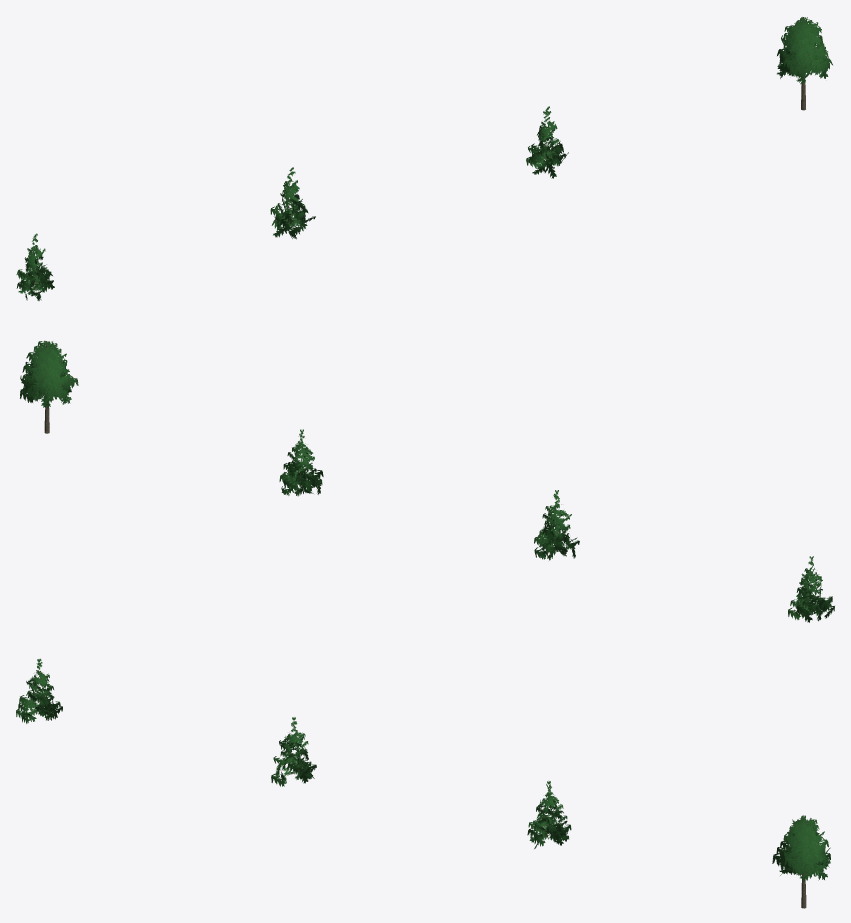
File: conifer.glb
The picture shows the model from 3 angles, top to bottom: view 1: azimuth 30°, elevation 25°; view 2: azimuth 150°, elevation 25°; view 3: azimuth 330°, elevation 25°; orthographic projection.
Parts seen in each view (by area): view 1: conifer_needles_27, conifer_needles_9, conifer_needles_16, conifer_needles_4; view 2: conifer_needles_27, conifer_needles_16, conifer_needles_9, conifer_needles_4; view 3: conifer_needles_27, conifer_needles_9, conifer_needles_16, conifer_needles_4.
Boxes of the visible parts, x1=… form: conifer_needles_27: x1=777, y1=17, x2=832, y2=84; conifer_needles_9: x1=270, y1=167, x2=315, y2=239; conifer_needles_16: x1=526, y1=106, x2=568, y2=178; conifer_needles_4: x1=16, y1=233, x2=54, y2=300; conifer_needles_27: x1=20, y1=340, x2=78, y2=408; conifer_needles_16: x1=279, y1=429, x2=323, y2=496; conifer_needles_9: x1=534, y1=490, x2=579, y2=560; conifer_needles_4: x1=788, y1=556, x2=834, y2=622; conifer_needles_27: x1=772, y1=815, x2=830, y2=881; conifer_needles_9: x1=271, y1=717, x2=316, y2=786; conifer_needles_16: x1=527, y1=781, x2=571, y2=848; conifer_needles_4: x1=16, y1=658, x2=62, y2=723.
Bounding box in the file's own units: 192 × 21.24 × 13.27.
Materials: 2 (2 with a texture image).
